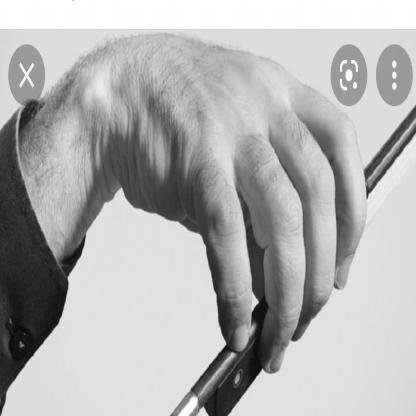good: (180, 28, 377, 391)
